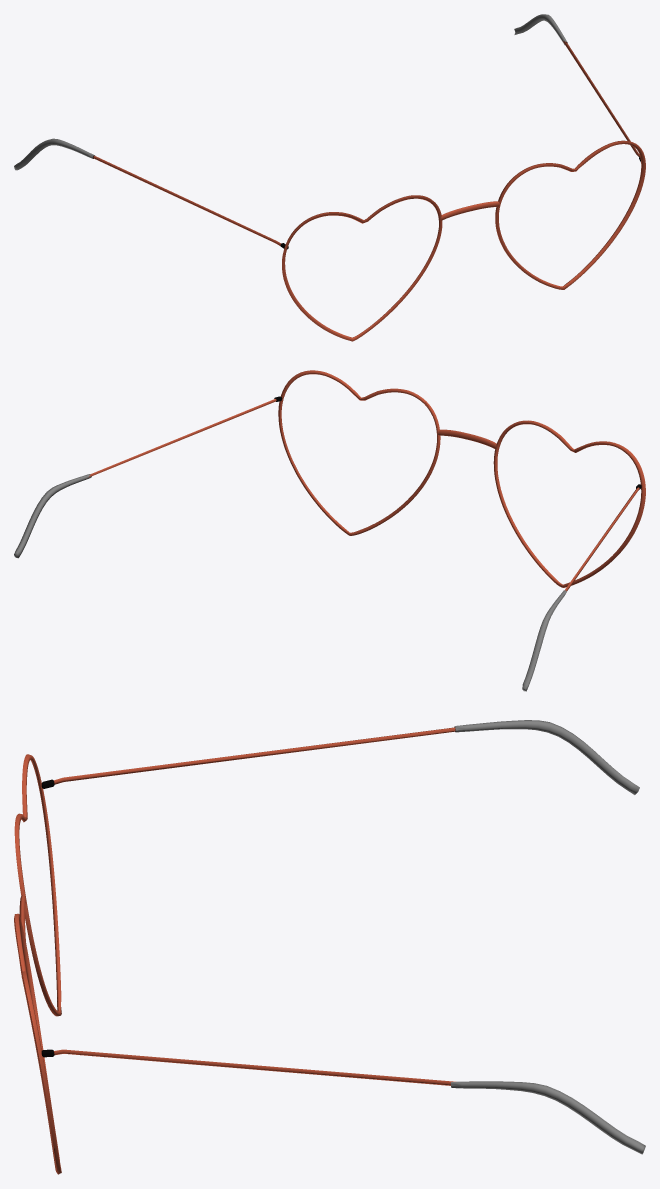
Rendered from Glasses_Boy.fbx.
3 views of the same model, one above another, from view 1: azimuth 30°, elevation 25°; view 2: azimuth 150°, elevation 25°; view 3: azimuth 270°, elevation 25° (orthographic). The views are drawn at different scales.
Visible parts, largest first — view 1: Glasses1; view 2: Glasses1; view 3: Glasses1.
Boxes of the visible parts, x1,y1,x2,y2 form: Glasses1: (14, 14, 645, 341); Glasses1: (14, 370, 645, 691); Glasses1: (14, 720, 645, 1174).
Size of the model in its own units: 40.27 by 11.05 by 28.19.
1 material, 1 textured.
